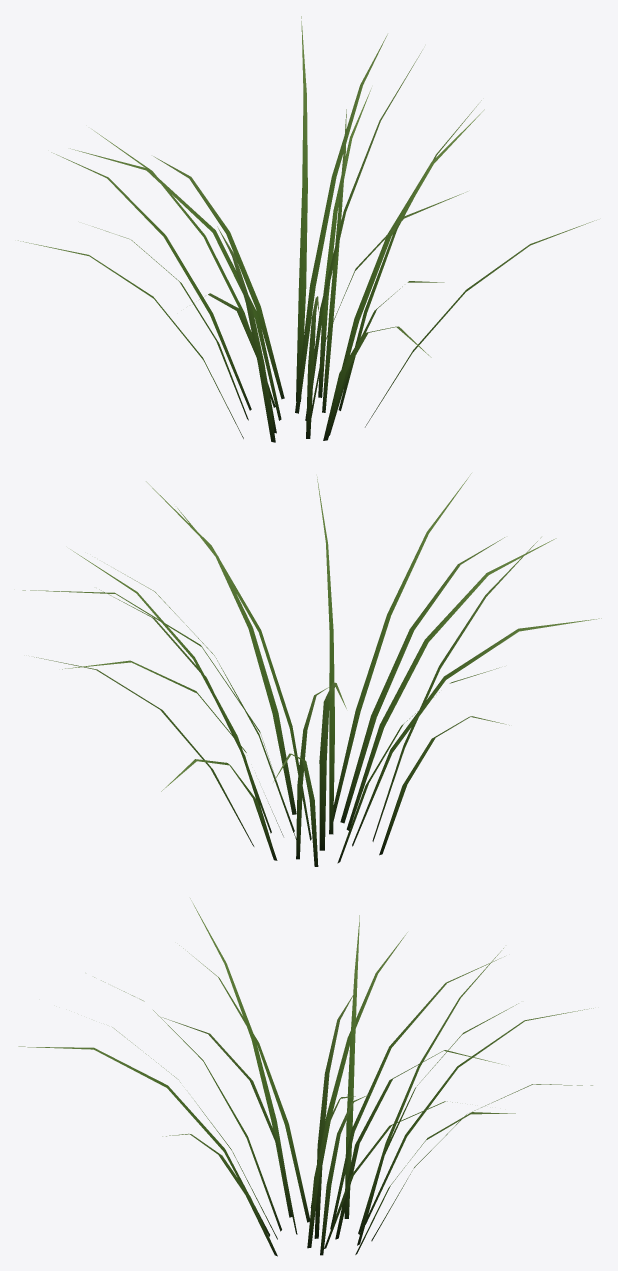
The model's file is grass.glb.
3 renders of one model, top to bottom at view 1: azimuth 30°, elevation 25°; view 2: azimuth 150°, elevation 25°; view 3: azimuth 270°, elevation 25°, orthographic. The views are drawn at different scales.
Parts seen in each view (by area): view 1: Grass_Meadow_A_Lip27; view 2: Grass_Meadow_A_Lip27; view 3: Grass_Meadow_A_Lip27.
Boxes of the visible parts, box(x1,y1,x2,y2) form: Grass_Meadow_A_Lip27: box(18, 16, 596, 442); Grass_Meadow_A_Lip27: box(22, 473, 601, 866); Grass_Meadow_A_Lip27: box(18, 898, 593, 1256).
Size of the model in its own units: 0.5818 by 0.4 by 0.6804.
